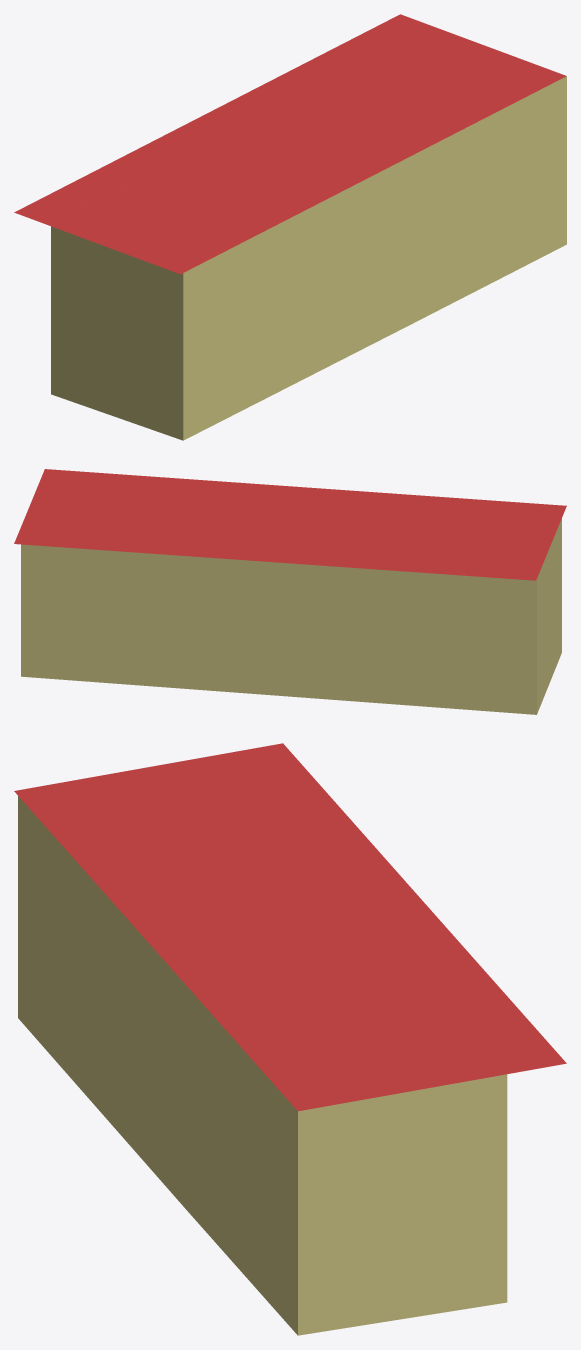
3 renders of one model, top to bottom at view 1: azimuth 30°, elevation 25°; view 2: azimuth 150°, elevation 25°; view 3: azimuth 270°, elevation 25°, orthographic. The views are drawn at different scales.
Parts seen in each view (by area): view 1: group_5, group_3, group_4; view 2: group_5, group_3, group_4; view 3: group_5, group_3, group_4.
Part boxes in pixels (<box>): group_5: <box>51,76,566,440</box>; group_3: <box>51,14,566,271</box>; group_4: <box>14,15,398,274</box>; group_5: <box>21,518,561,714</box>; group_3: <box>14,469,561,565</box>; group_4: <box>17,486,566,580</box>; group_5: <box>18,796,507,1335</box>; group_3: <box>18,752,566,1111</box>; group_4: <box>14,743,566,1063</box>.
Bounding box in the file's own units: 21.59 × 13.91 × 6.37.
